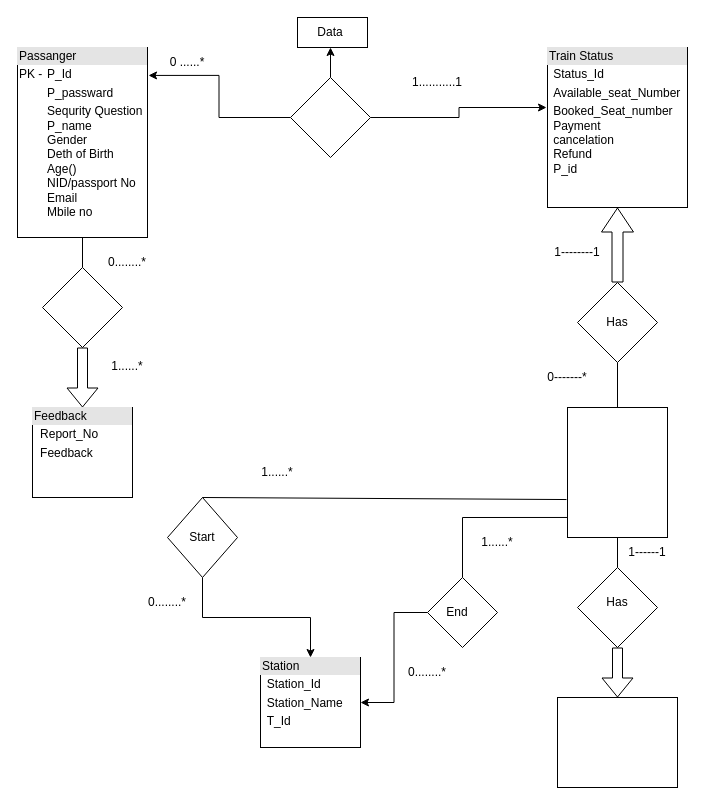
Image size: 705x805. Some labels were removed from this diagram. Each missing label, with the centre of its shape:
"Booking" goes at point 330,117.
"Give" goes at point 82,307.
"Route Arriaval_Time Departure_Time Station_Name" goes at point 617,742.
"Train Train_Id Train_Name Train_Type Train_Class Status_id P_id" goes at point 617,472.
